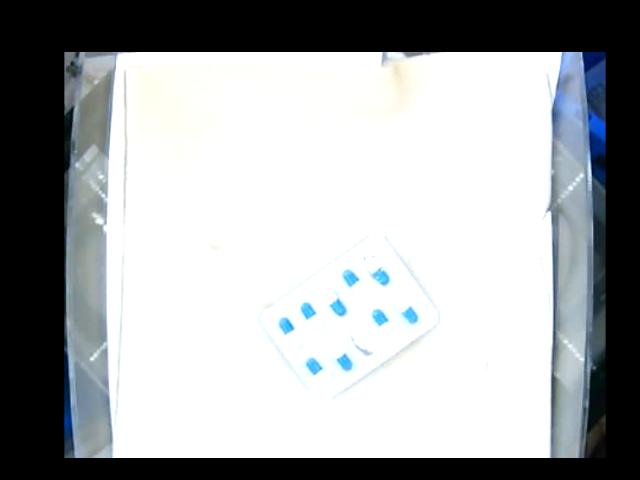Medicine: (259, 233, 438, 399)
